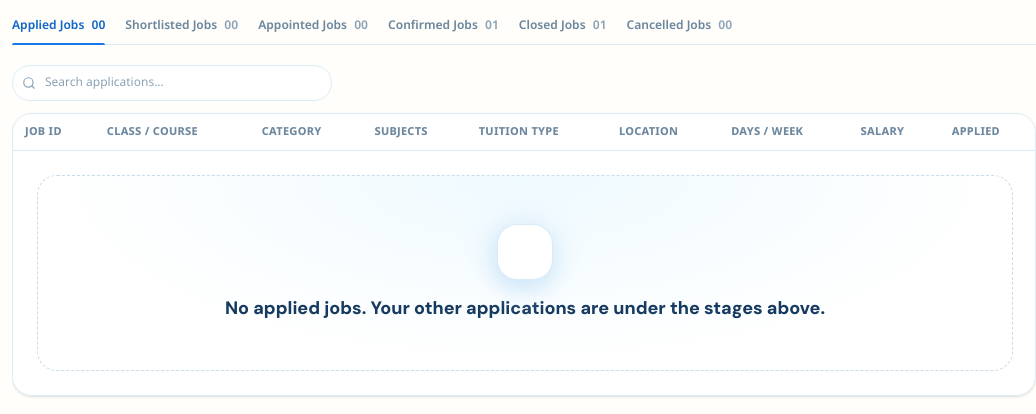
Test case: the Tutor's Status tab › moves a tuition from Confirmed to Closed once the fee is paid in full, with the day it closed
Click the tab "Confirmed Jobs 01" at (443, 28), box left=388, top=12, right=499, bottom=44
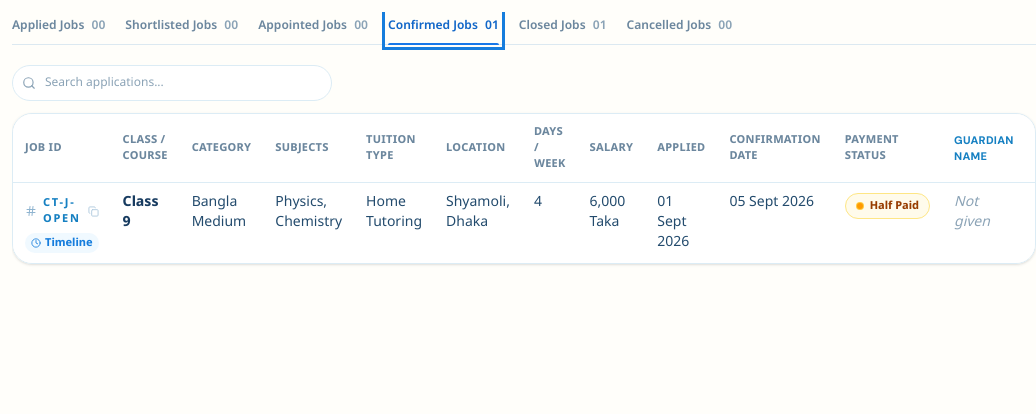
Expected: the text "CT-J-PAID" is not shown
Result: the button "CT-J-OPEN" is shown at left=21, top=193, right=103, bottom=229
Click the tab "Closed Jobs 01" at (563, 28), box left=519, top=12, right=607, bottom=44
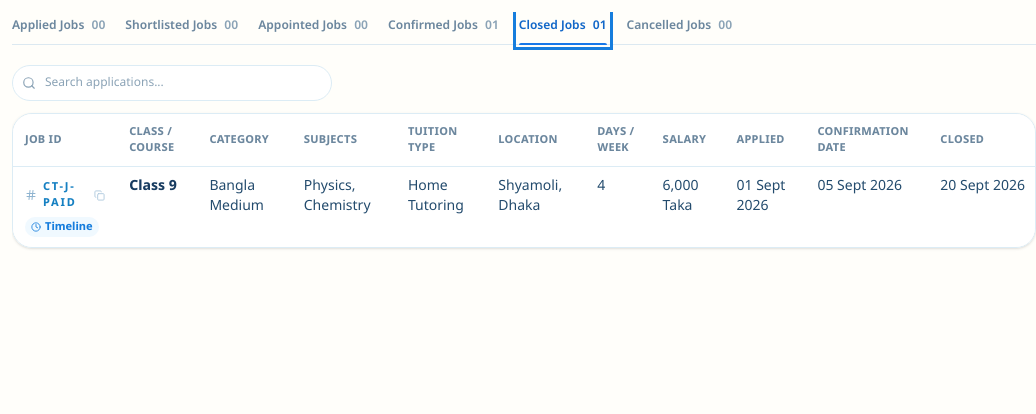
Result: the column heading "Confirmation Date" is shown at left=806, top=114, right=928, bottom=166
Result: the button "CT-J-PAID" is shown at left=21, top=177, right=109, bottom=213
Result: the button "CT-J-OPEN" is gone
